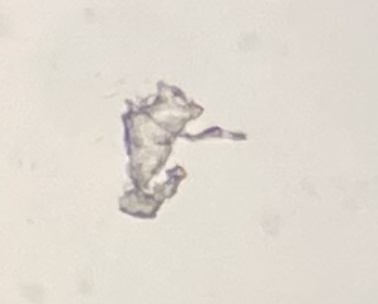microplastic: (119, 78, 250, 222)
